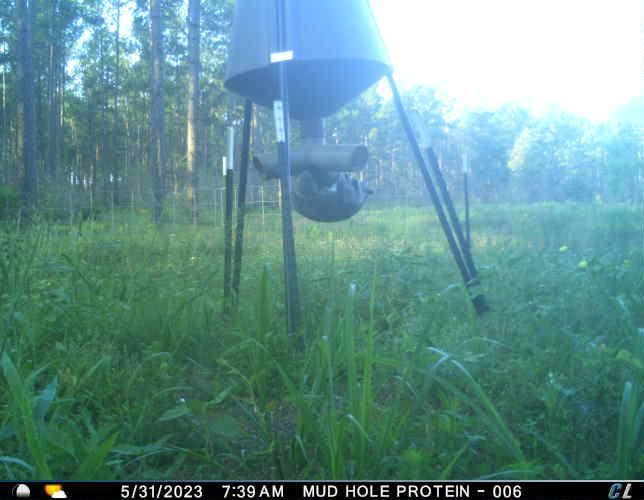Raccoon: (288, 172, 375, 225)
